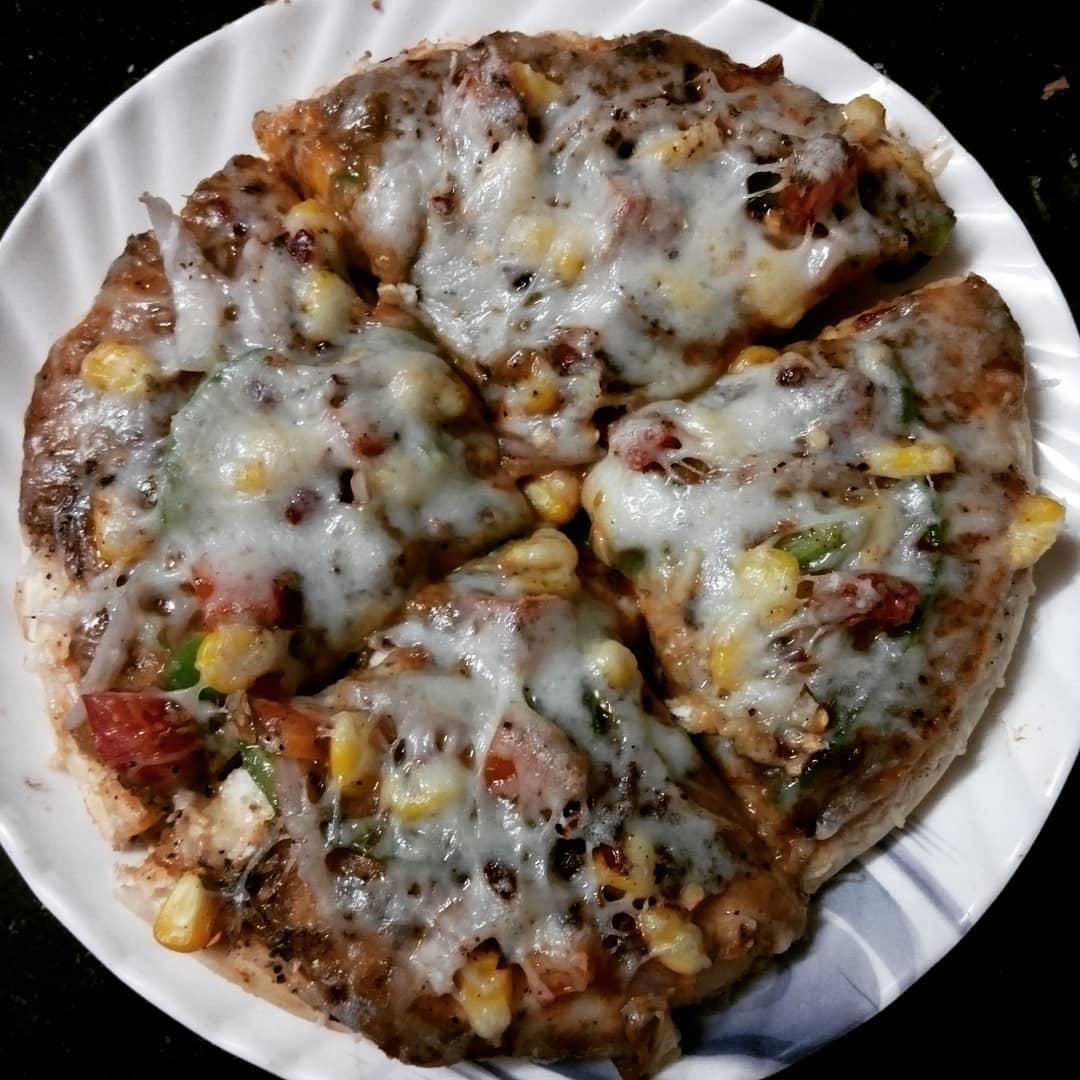Corn: (863, 432, 970, 492), (734, 539, 804, 621), (79, 338, 163, 402), (153, 872, 213, 955), (290, 264, 351, 340), (1002, 498, 1067, 566), (651, 121, 721, 175), (327, 711, 379, 783), (526, 467, 588, 524), (280, 200, 351, 242), (518, 361, 562, 412), (548, 244, 588, 282)
Pizza: (28, 43, 1030, 1040)
